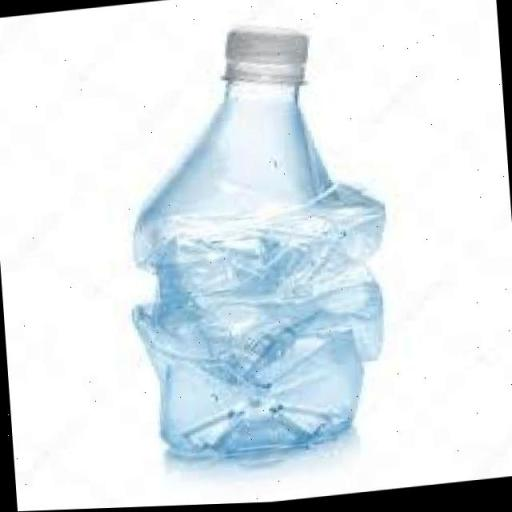plastic: (112, 6, 404, 472)
